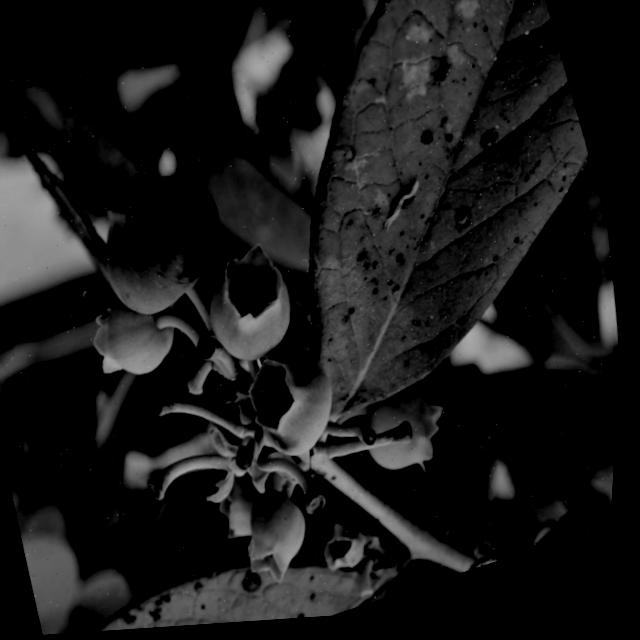Semi-RipeBlueBerry: (71, 131, 267, 344)
UnripeBlueBerry: (184, 222, 327, 382), (226, 328, 366, 482)
